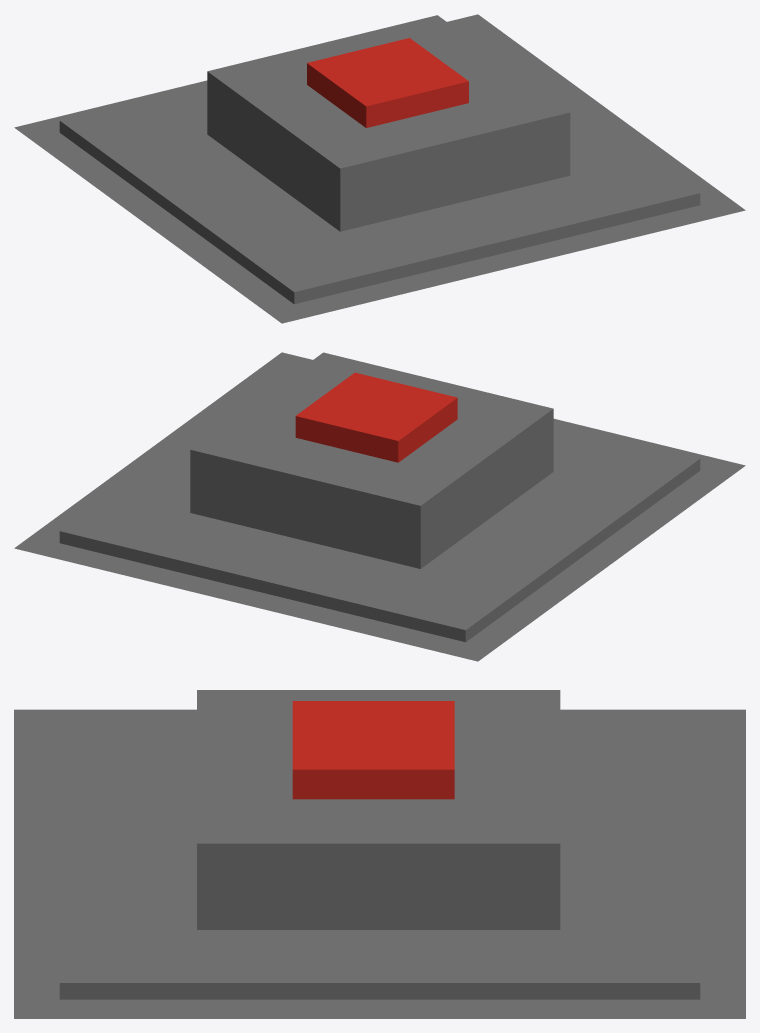
File: Knopf_ungedrückt.fbx
3 views of the same model, one above another, from view 1: azimuth 30°, elevation 25°; view 2: azimuth 150°, elevation 25°; view 3: azimuth 270°, elevation 25° (orthographic). The views are drawn at different scales.
Visible parts, largest first — view 1: Cube; view 2: Cube; view 3: Cube.
Part boxes in pixels (x1,y1,x2,y2): Cube: (14, 14, 745, 323); Cube: (14, 352, 745, 661); Cube: (14, 690, 745, 1018).
Bounding box in the file's own units: 100 × 20 × 100.
